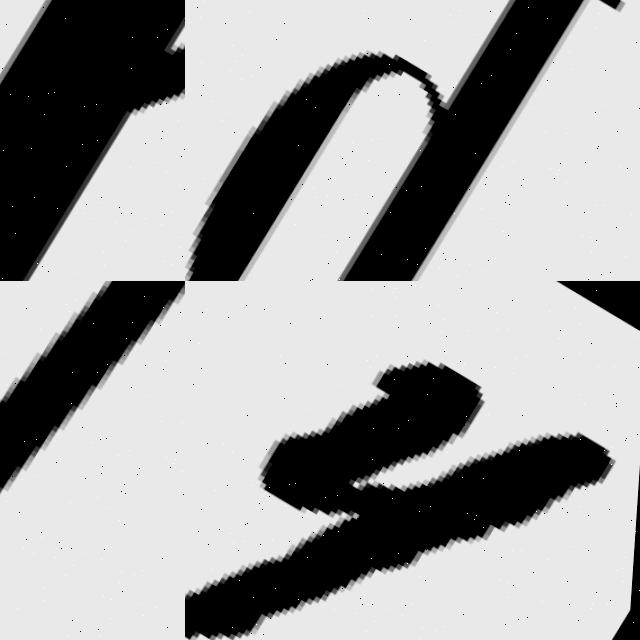H: (185, 355, 619, 640)
I: (0, 281, 185, 640)
P: (193, 0, 588, 281)
X: (0, 0, 185, 281)
